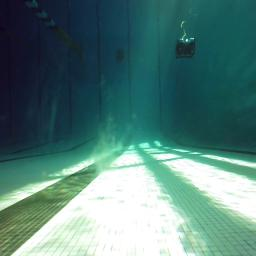Full: (116, 54, 125, 62)
front: (175, 35, 198, 61)
